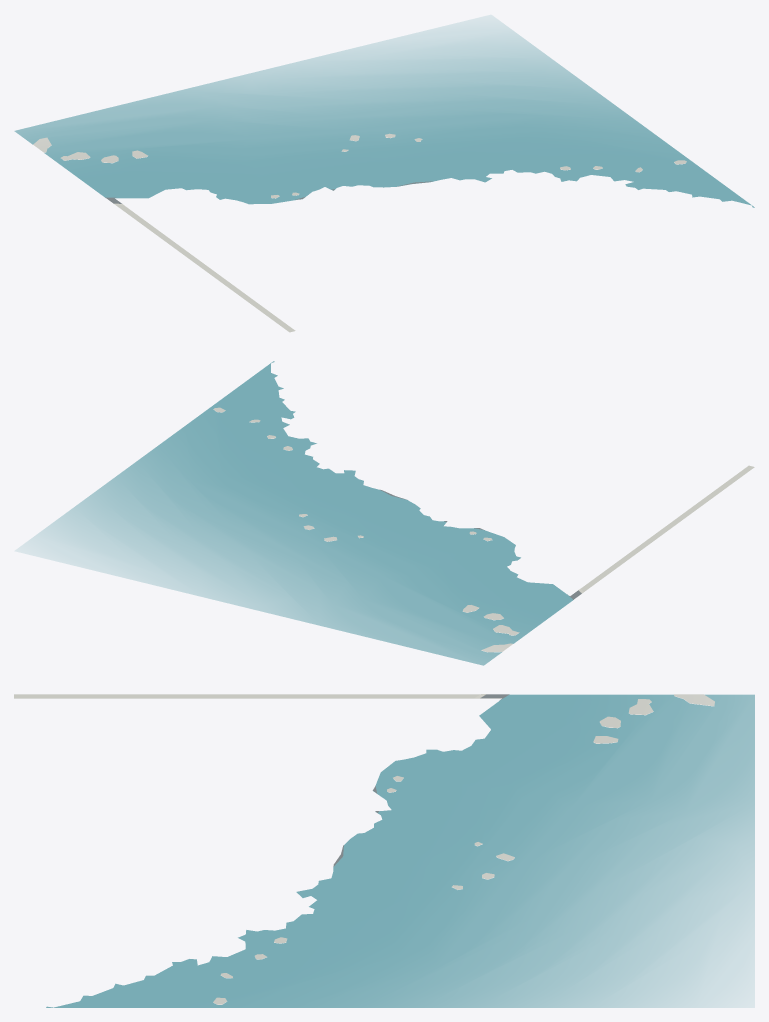
The picture shows the model from 3 angles, top to bottom: view 1: azimuth 30°, elevation 25°; view 2: azimuth 150°, elevation 25°; view 3: azimuth 270°, elevation 25°; orthographic projection. The views are drawn at different scales.
Parts seen in each view (by area): view 1: city; view 2: city; view 3: city.
Part boxes in pixels (left/top/right/bottom): city: left=14, top=15, right=754, bottom=332; city: left=15, top=361, right=754, bottom=665; city: left=14, top=694, right=754, bottom=1007.
Bounding box in the file's own units: 500 × 0.4 × 500.
